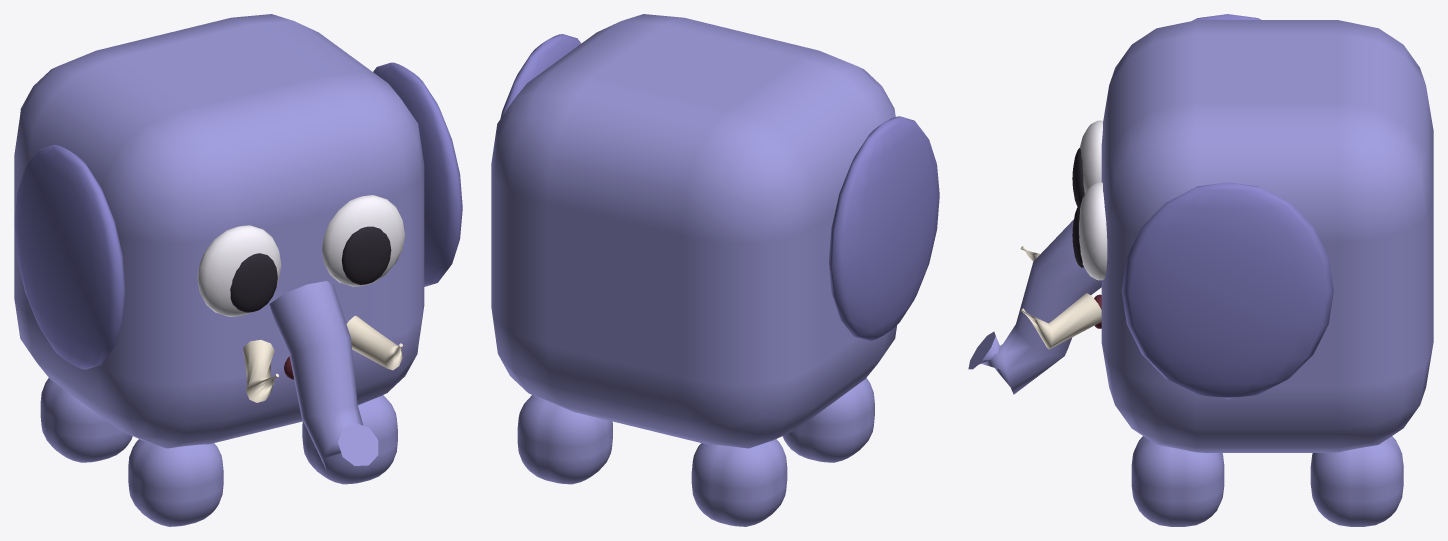
Rendered from pet-elephant.glb.
3 views of the same model, side by side, from view 1: azimuth 30°, elevation 25°; view 2: azimuth 150°, elevation 25°; view 3: azimuth 270°, elevation 25° (orthographic). The views are drawn at different scales.
Parts seen in each view (by area): view 1: body, ear_-1, trunk, ear_1, foot_L_front, foot_L_back, eye_white_-1, eye_white_1, foot_R_front, tusk (×2), pupil_1, pupil_-1; view 2: body, ear_-1, foot_L_back, foot_R_back, foot_L_front, ear_1; view 3: body, ear_1, trunk, foot_R_back, foot_R_front, eye_white_1, tusk, eye_white_-1, pupil_-1.
Part boxes in pixels (left/top/right/bottom): body: left=14, top=14, right=424, bottom=448; ear_-1: left=14, top=144, right=125, bottom=369; trunk: left=269, top=281, right=378, bottom=469; ear_1: left=373, top=62, right=462, bottom=286; foot_L_front: left=128, top=439, right=223, bottom=526; foot_L_back: left=40, top=378, right=132, bottom=462; eye_white_-1: left=197, top=225, right=281, bottom=316; eye_white_1: left=322, top=195, right=404, bottom=286; foot_R_front: left=302, top=395, right=397, bottom=484; tusk (×2): left=243, top=315, right=402, bottom=402; pupil_1: left=341, top=226, right=391, bottom=284; pupil_-1: left=230, top=253, right=277, bottom=312; body: left=491, top=14, right=896, bottom=448; ear_-1: left=829, top=116, right=939, bottom=340; foot_L_back: left=691, top=439, right=787, bottom=526; foot_R_back: left=517, top=395, right=612, bottom=484; foot_L_front: left=782, top=378, right=874, bottom=462; ear_1: left=500, top=34, right=581, bottom=118; body: left=1101, top=20, right=1433, bottom=452; ear_1: left=1121, top=182, right=1333, bottom=398; trunk: left=968, top=219, right=1101, bottom=394; foot_R_back: left=1310, top=436, right=1403, bottom=526; foot_R_front: left=1131, top=436, right=1224, bottom=526; eye_white_1: left=1079, top=182, right=1107, bottom=280; tusk: left=1020, top=293, right=1101, bottom=349; eye_white_-1: left=1080, top=120, right=1103, bottom=194; pupil_-1: left=1072, top=148, right=1084, bottom=206.
Size of the model in its own units: 1.34 by 1.36 by 1.4.
